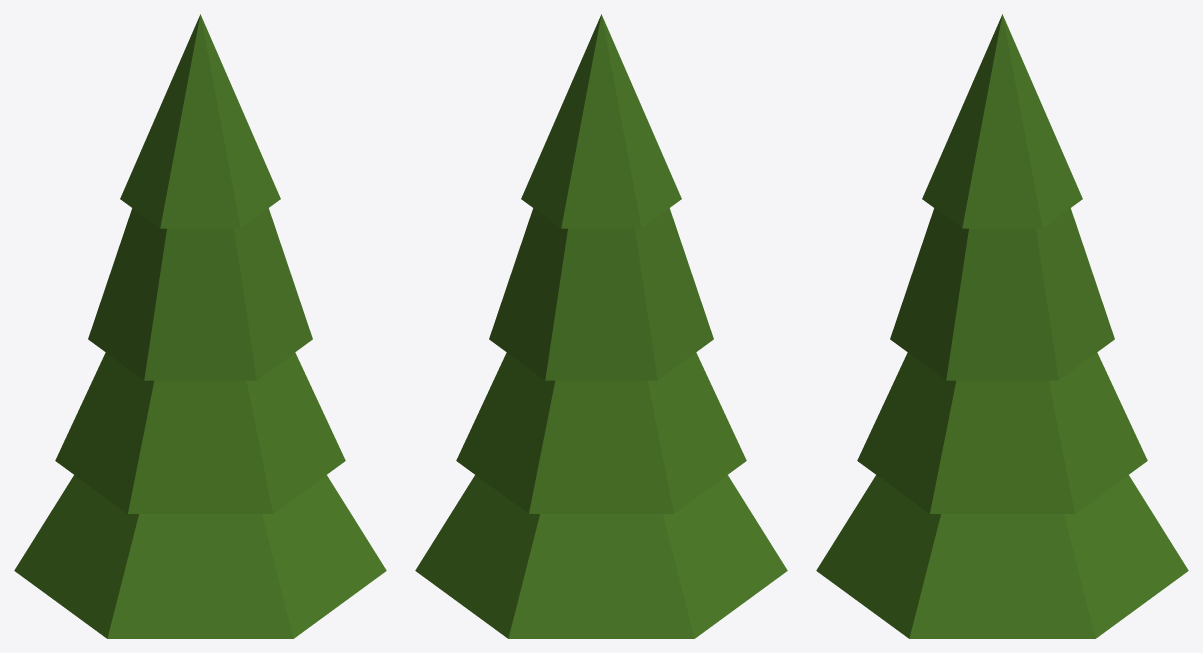
Rendered from tree_pineGroundA.glb.
The picture shows the model from 3 angles, left to right: view 1: azimuth 30°, elevation 25°; view 2: azimuth 150°, elevation 25°; view 3: azimuth 270°, elevation 25°; orthographic projection.
Visible parts, largest first — view 1: tree_pineGroundA; view 2: tree_pineGroundA; view 3: tree_pineGroundA.
Part boxes in pixels (bbox=[...]): tree_pineGroundA: bbox=[14, 14, 386, 638]; tree_pineGroundA: bbox=[415, 14, 787, 638]; tree_pineGroundA: bbox=[816, 14, 1188, 638].
Bounding box in the file's own units: 0.4804 × 0.9145 × 0.5547.
